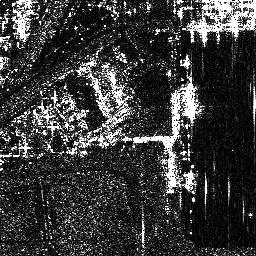ship: (183, 81, 198, 122)
